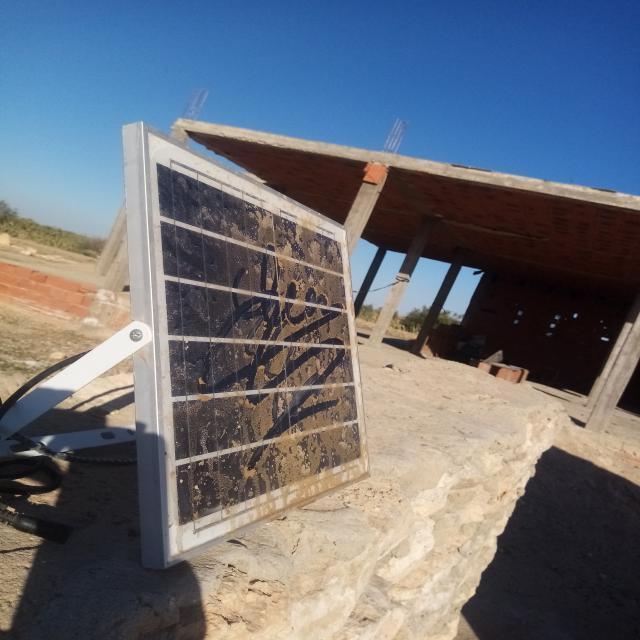faulty: (144, 125, 371, 563)
